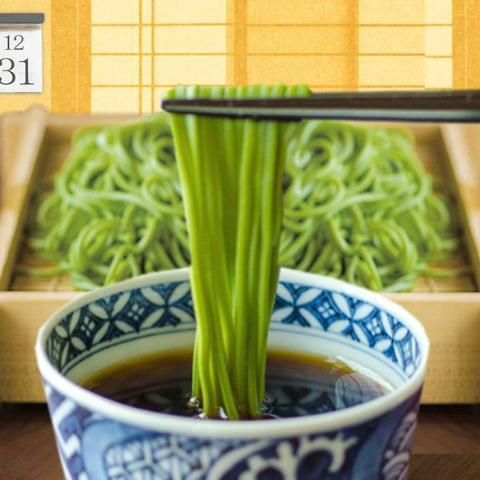Soba: (51, 111, 463, 304)
